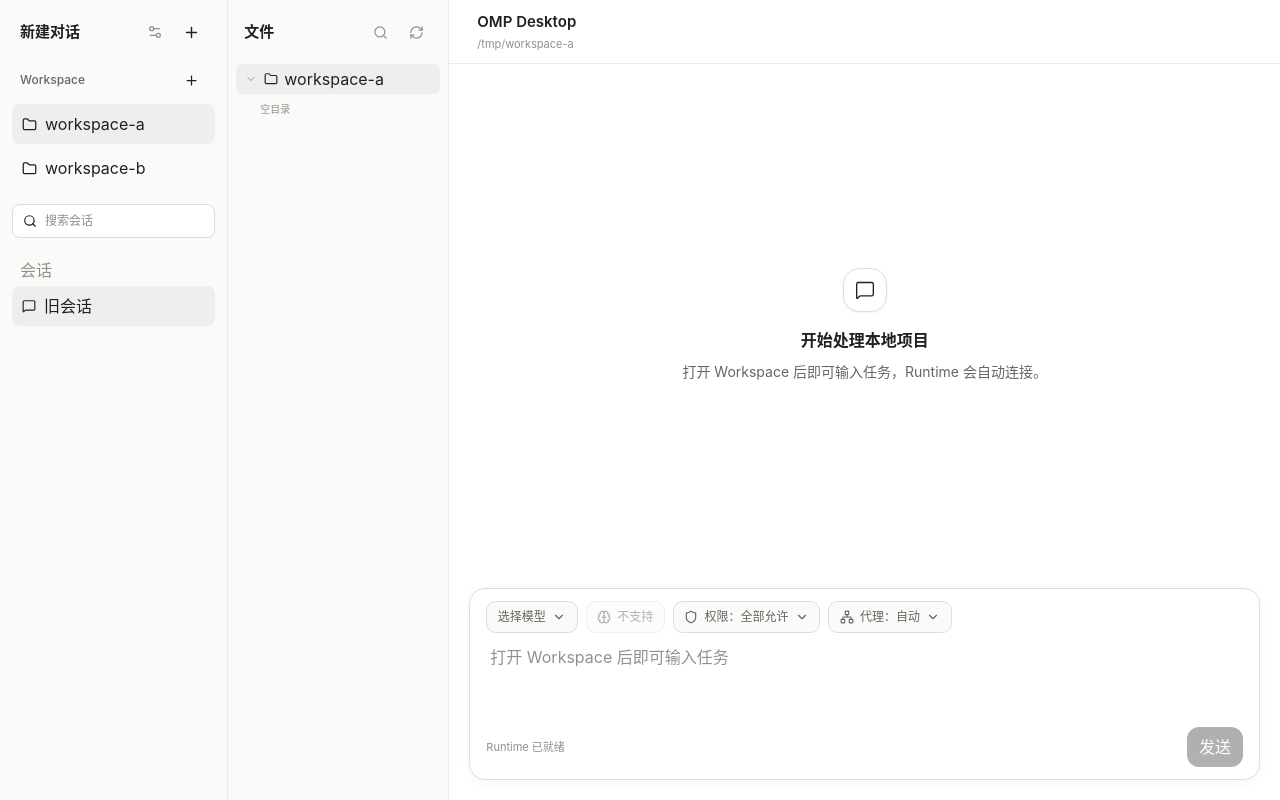
Test case: App shell › 切换 Workspace 时立即移除旧 Session，成功后显示目标列表
The width and height of the screenshot is (1280, 800).
Expected: the text "旧会话" is shown, x1=44 y1=294 x2=92 y2=318
Step 1. Click the button "workspace-b" → coordinates (114, 168), box x1=12 y1=148 x2=215 y2=188
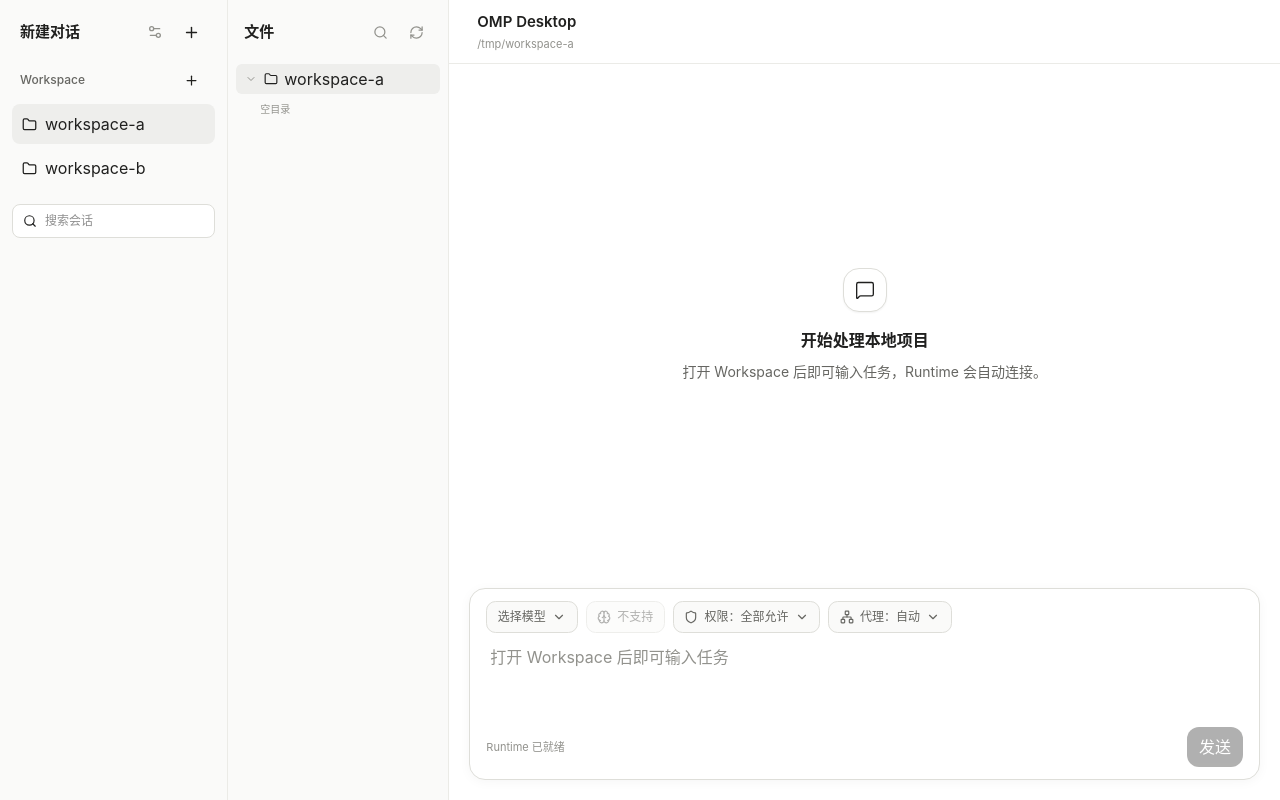
Step 2. Click the button "workspace-b" → coordinates (114, 168), box x1=12 y1=148 x2=215 y2=188
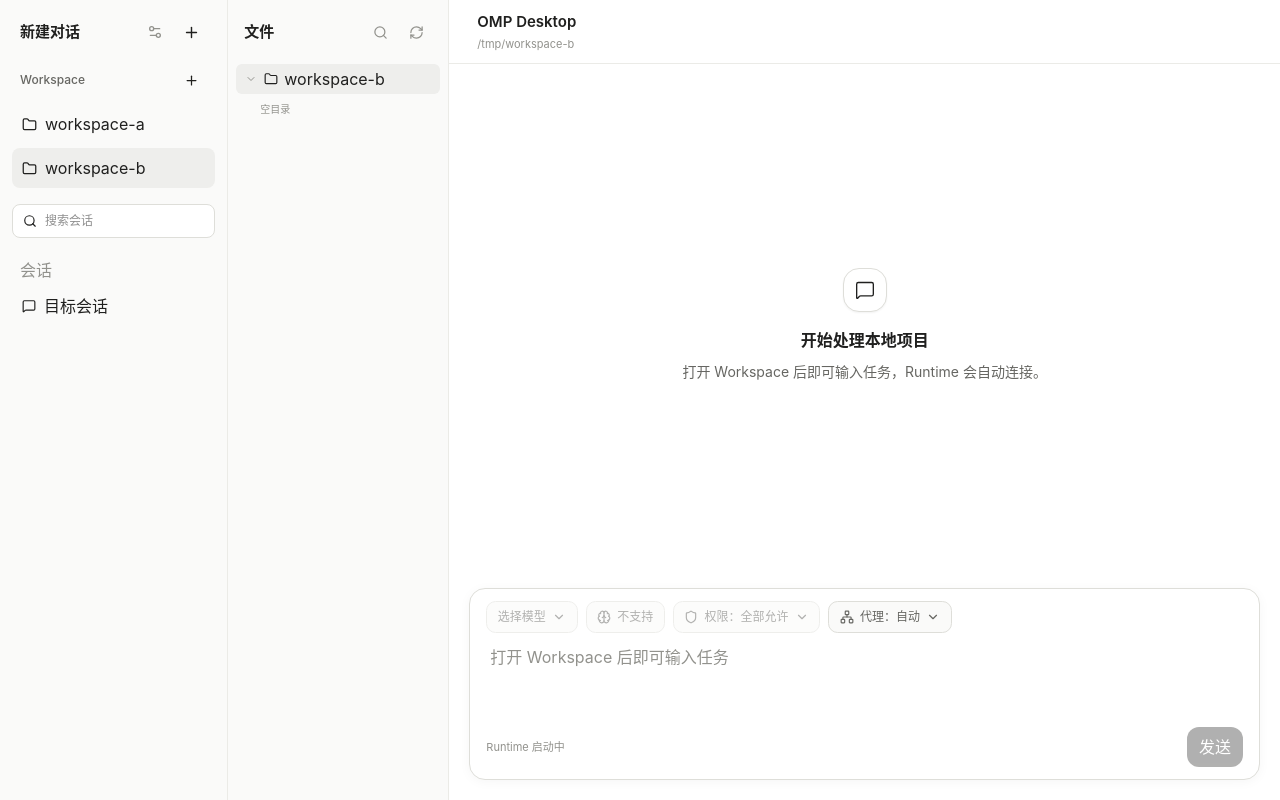
Expected: the button "旧会话" is not shown
Expected: the button "目标会话" is disabled, x1=12 y1=286 x2=215 y2=326
